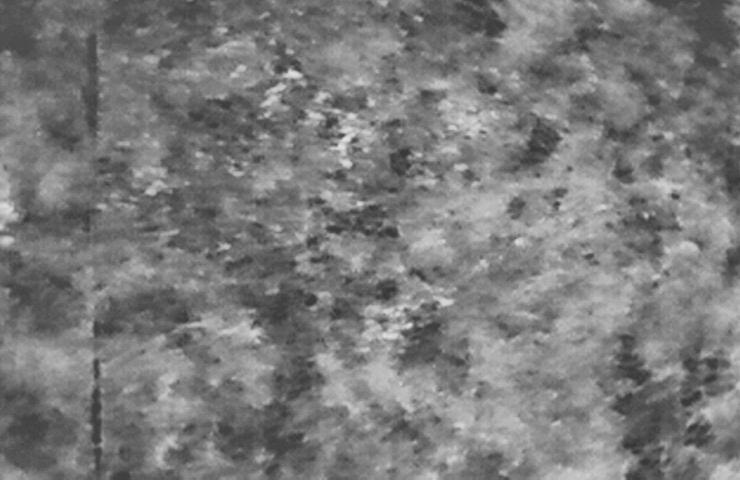landmines: (360, 298, 415, 354)
